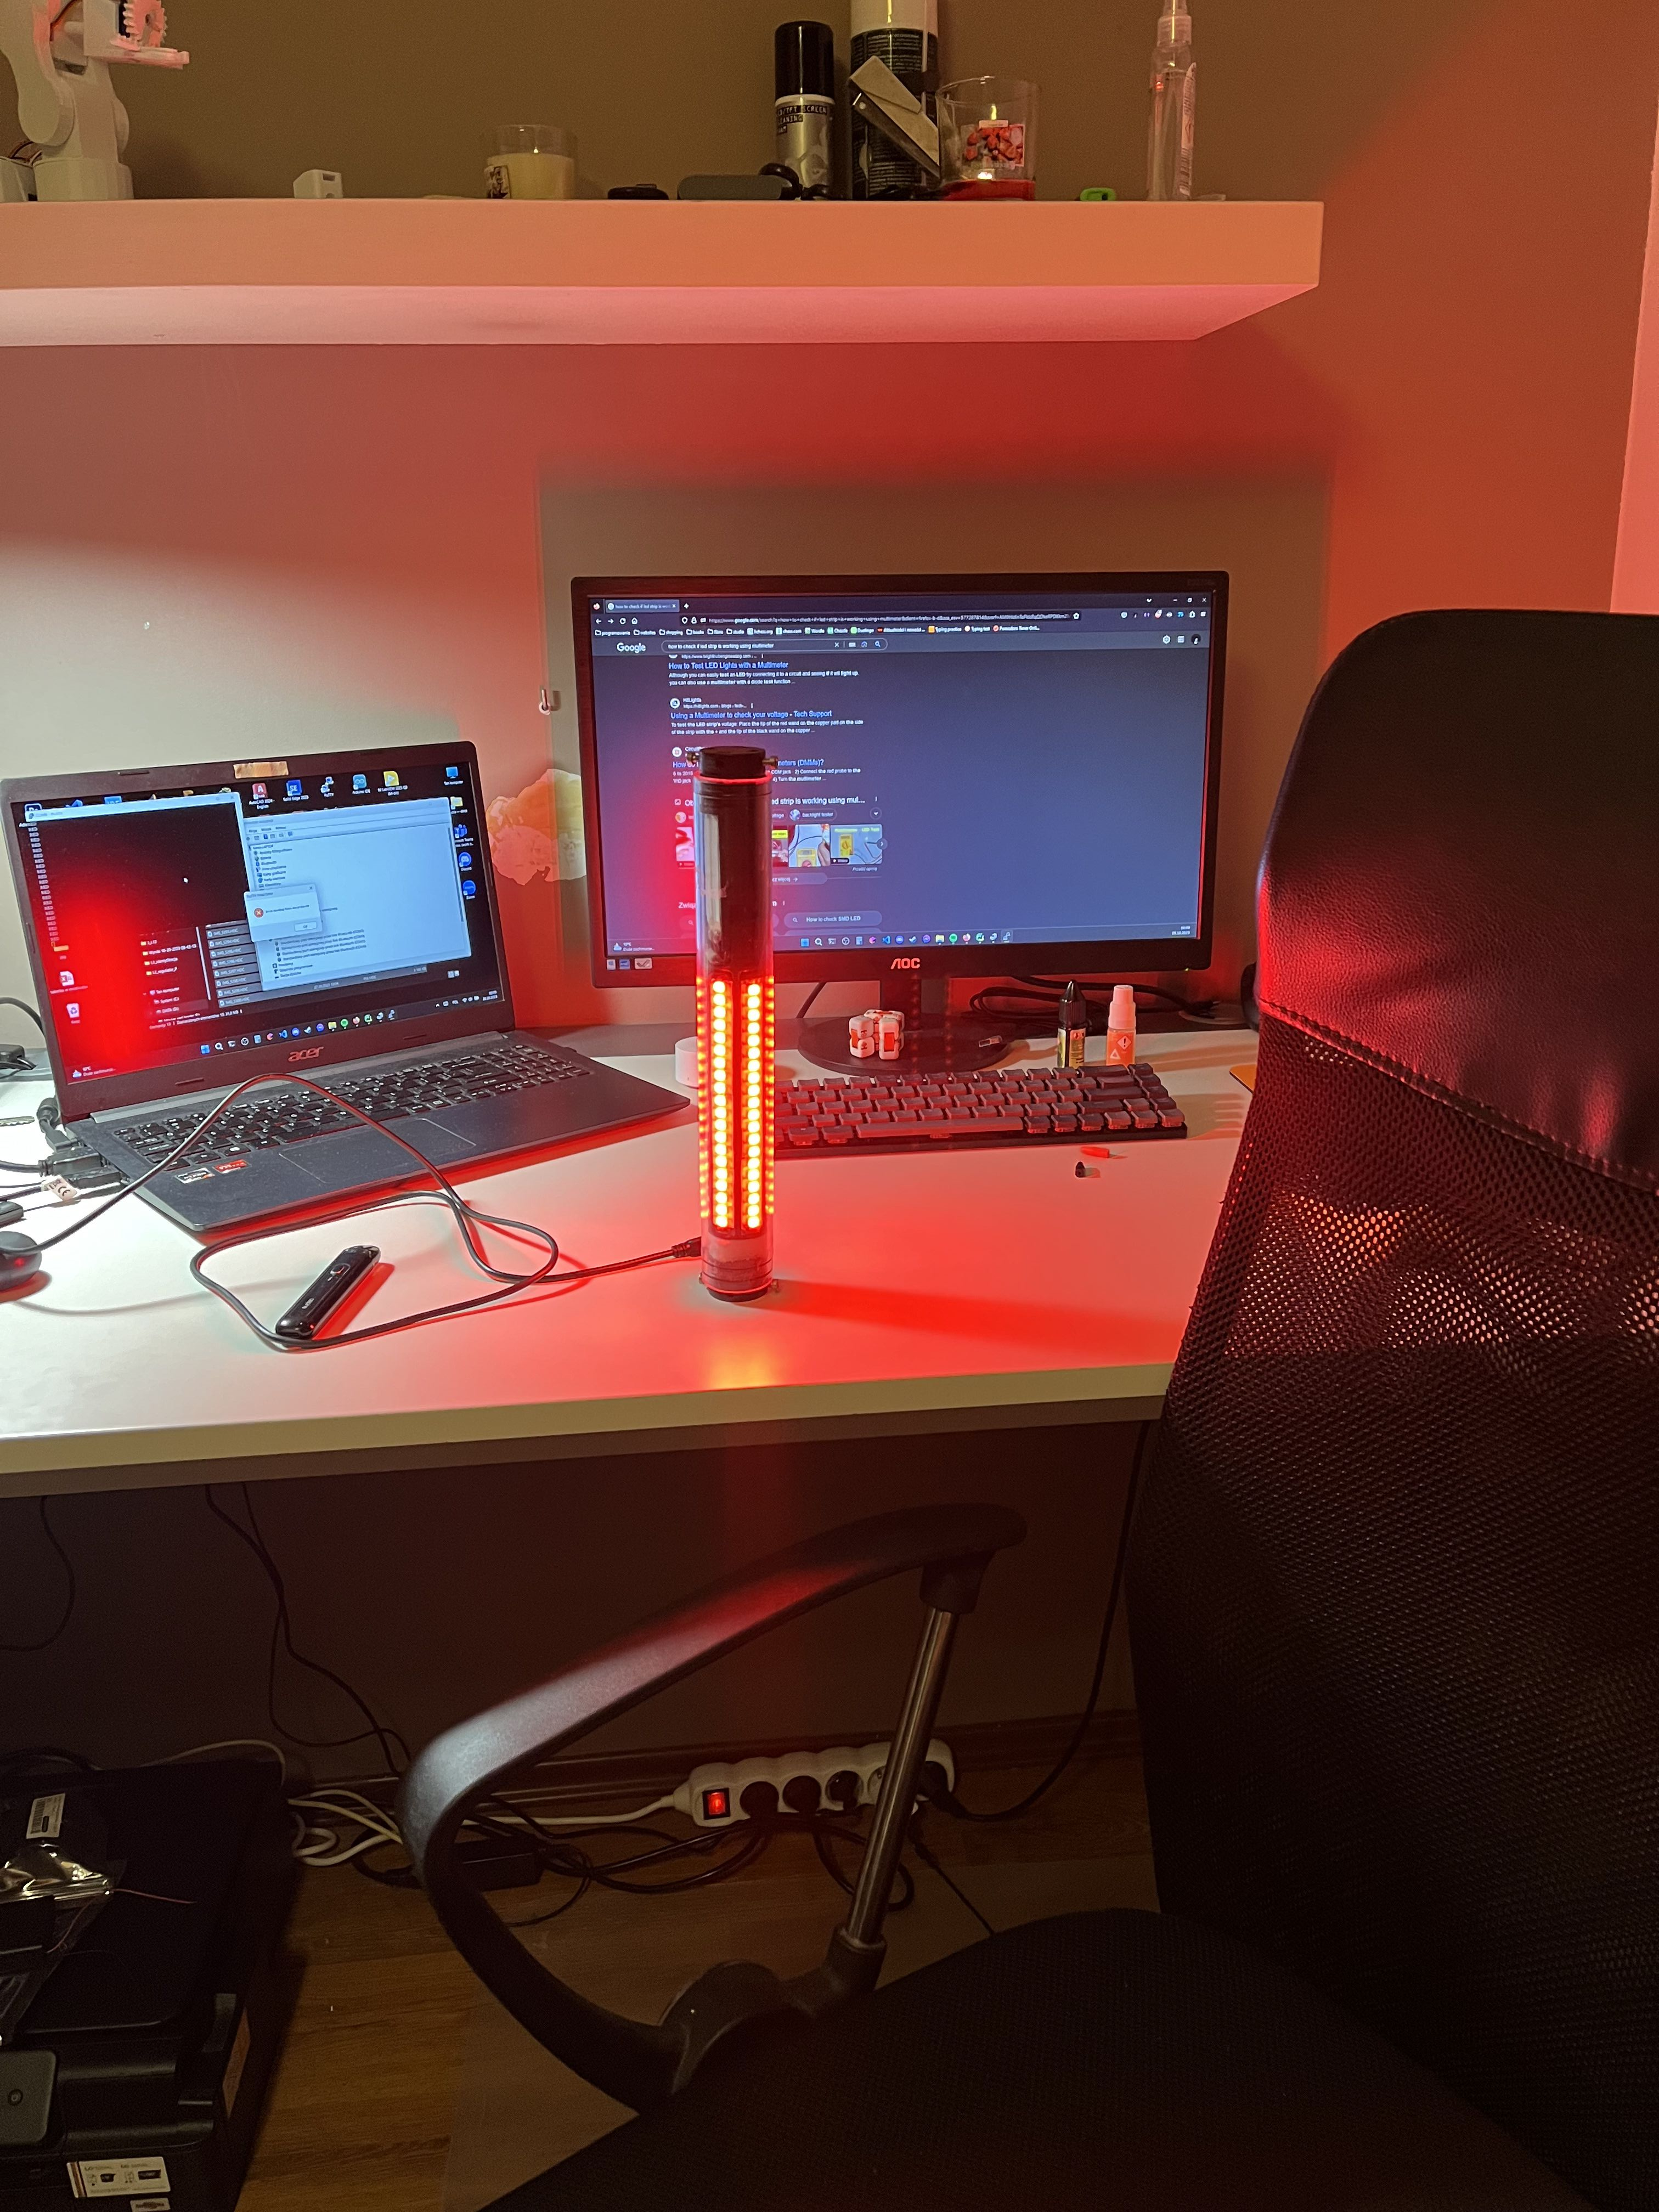red: (695, 779, 765, 1285)
